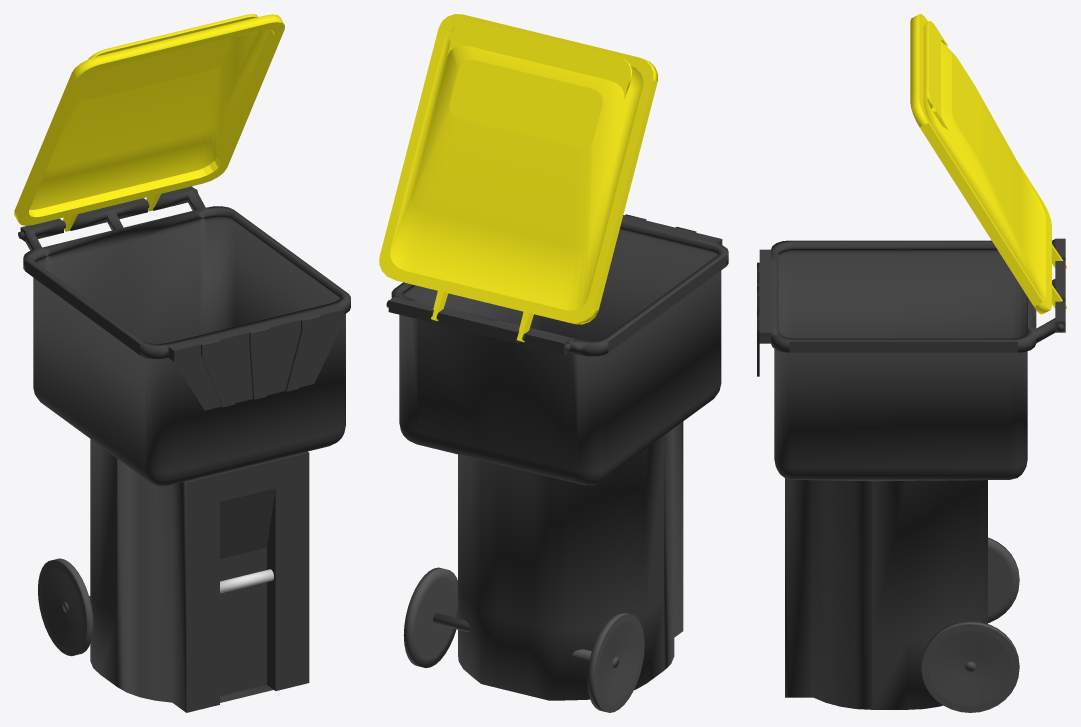
Rendered from trash_yellow.glb.
3 renders of one model, left to right at view 1: azimuth 30°, elevation 25°; view 2: azimuth 150°, elevation 25°; view 3: azimuth 270°, elevation 25°, orthographic. The views are drawn at different scales.
Parts seen in each view (by area): view 1: Yellow Trash Cart, Yellow Lid; view 2: Yellow Trash Cart, Yellow Lid; view 3: Yellow Trash Cart, Yellow Lid.
Part boxes in pixels (box(x1,y1,x2,y2)): Yellow Trash Cart: box(18, 186, 350, 712); Yellow Lid: box(14, 14, 284, 231); Yellow Trash Cart: box(386, 214, 728, 712); Yellow Lid: box(379, 14, 657, 342); Yellow Trash Cart: box(757, 238, 1065, 712); Yellow Lid: box(910, 14, 1066, 314).
Bounding box in the file's own units: 2.6 × 7.27 × 3.34.
